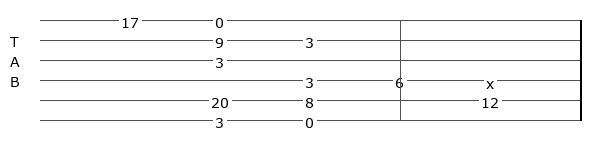0: (215, 13, 228, 27), (305, 113, 318, 127)
12: (481, 93, 503, 107)
17: (121, 13, 143, 27)
20: (211, 93, 233, 107)
3: (215, 113, 228, 127), (215, 53, 228, 67), (305, 33, 318, 47), (305, 73, 318, 87)
6: (395, 73, 408, 87)
8: (305, 93, 318, 107)
9: (215, 33, 228, 47)
x: (486, 74, 498, 86)
